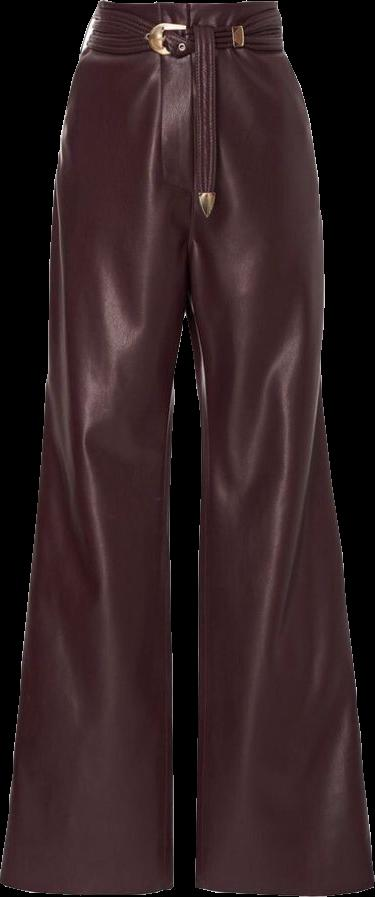Hemline: (0, 876, 175, 896), (193, 877, 374, 896)
Pantleg: (185, 0, 374, 893), (0, 0, 186, 895)
Waistline: (79, 42, 284, 64), (94, 0, 275, 13)
